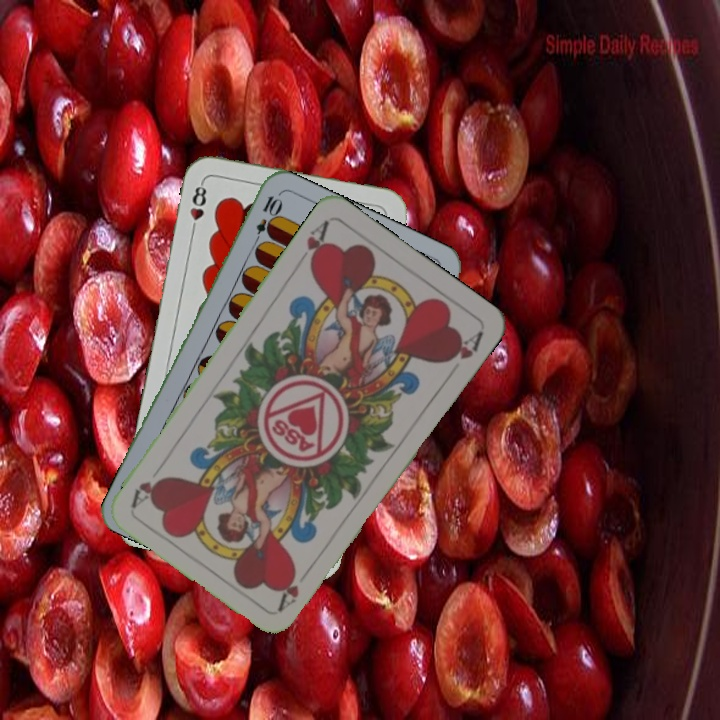E10: (249, 191, 283, 249)
H8: (186, 178, 210, 237)
HA: (274, 561, 315, 613), (302, 216, 332, 272)
